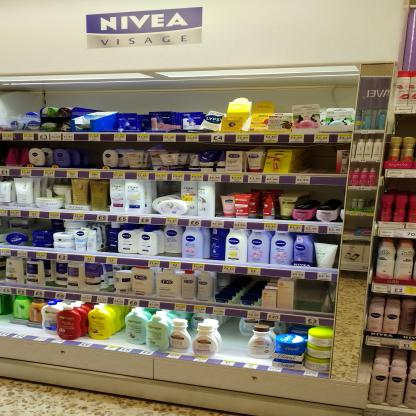Void: (219, 324, 245, 357), (295, 280, 319, 314), (302, 149, 332, 175), (75, 144, 101, 168), (230, 276, 260, 294)
